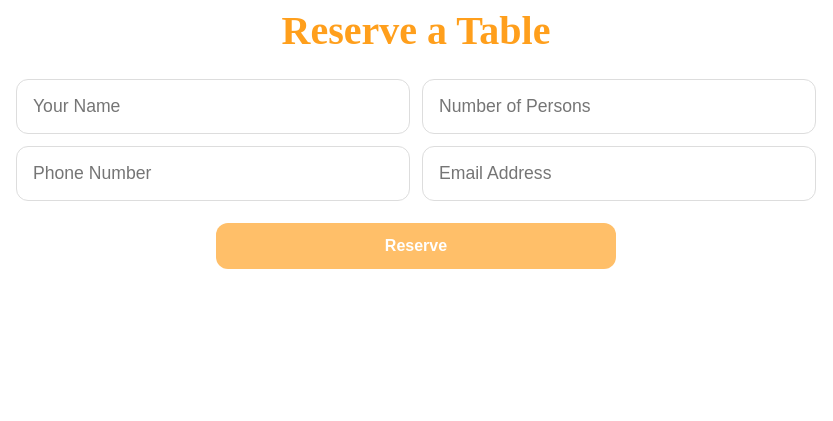
Test: ReservationCard Component › clears error message on input change
The width and height of the screenshot is (833, 421).
# First, trigger the validation by submitting
Click the button "Reserve": (416, 246) [216,223,616,269]
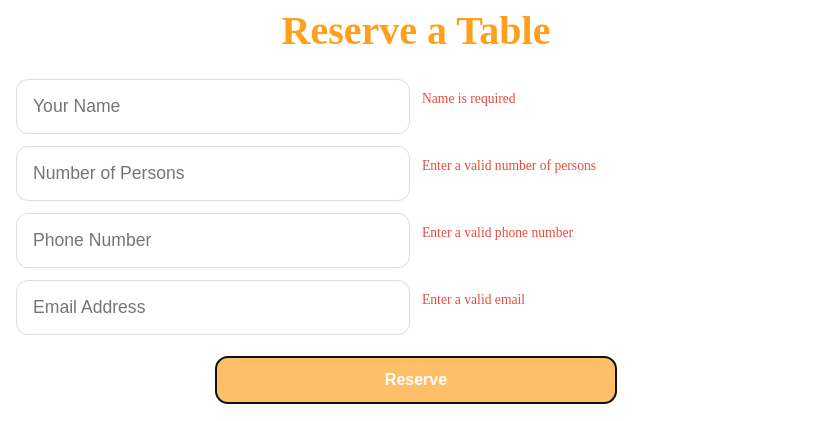
Now the text "Name is required" is shown, box [422,91,516,106]
# Start typing in the name field
In the field with placeholder "Your Name": (213, 107) [16,79,410,134], type "John Doe"
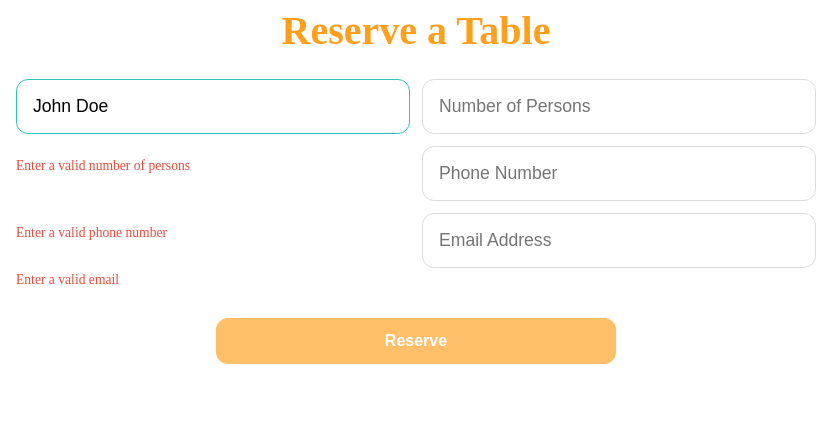
Now the text "Name is required" is gone
